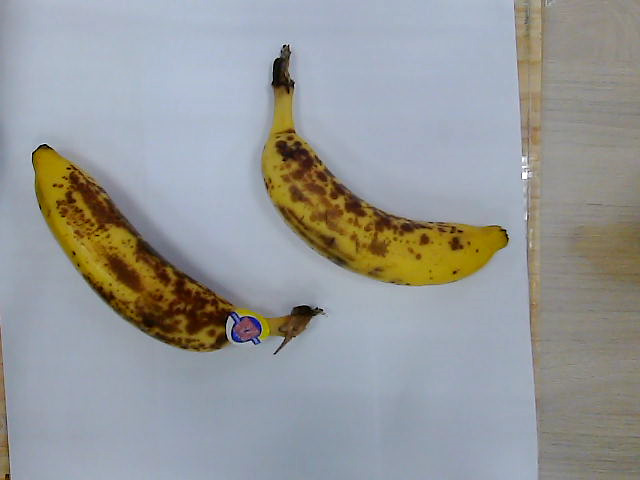rotten_banana: (31, 141, 327, 353), (262, 44, 508, 286)
